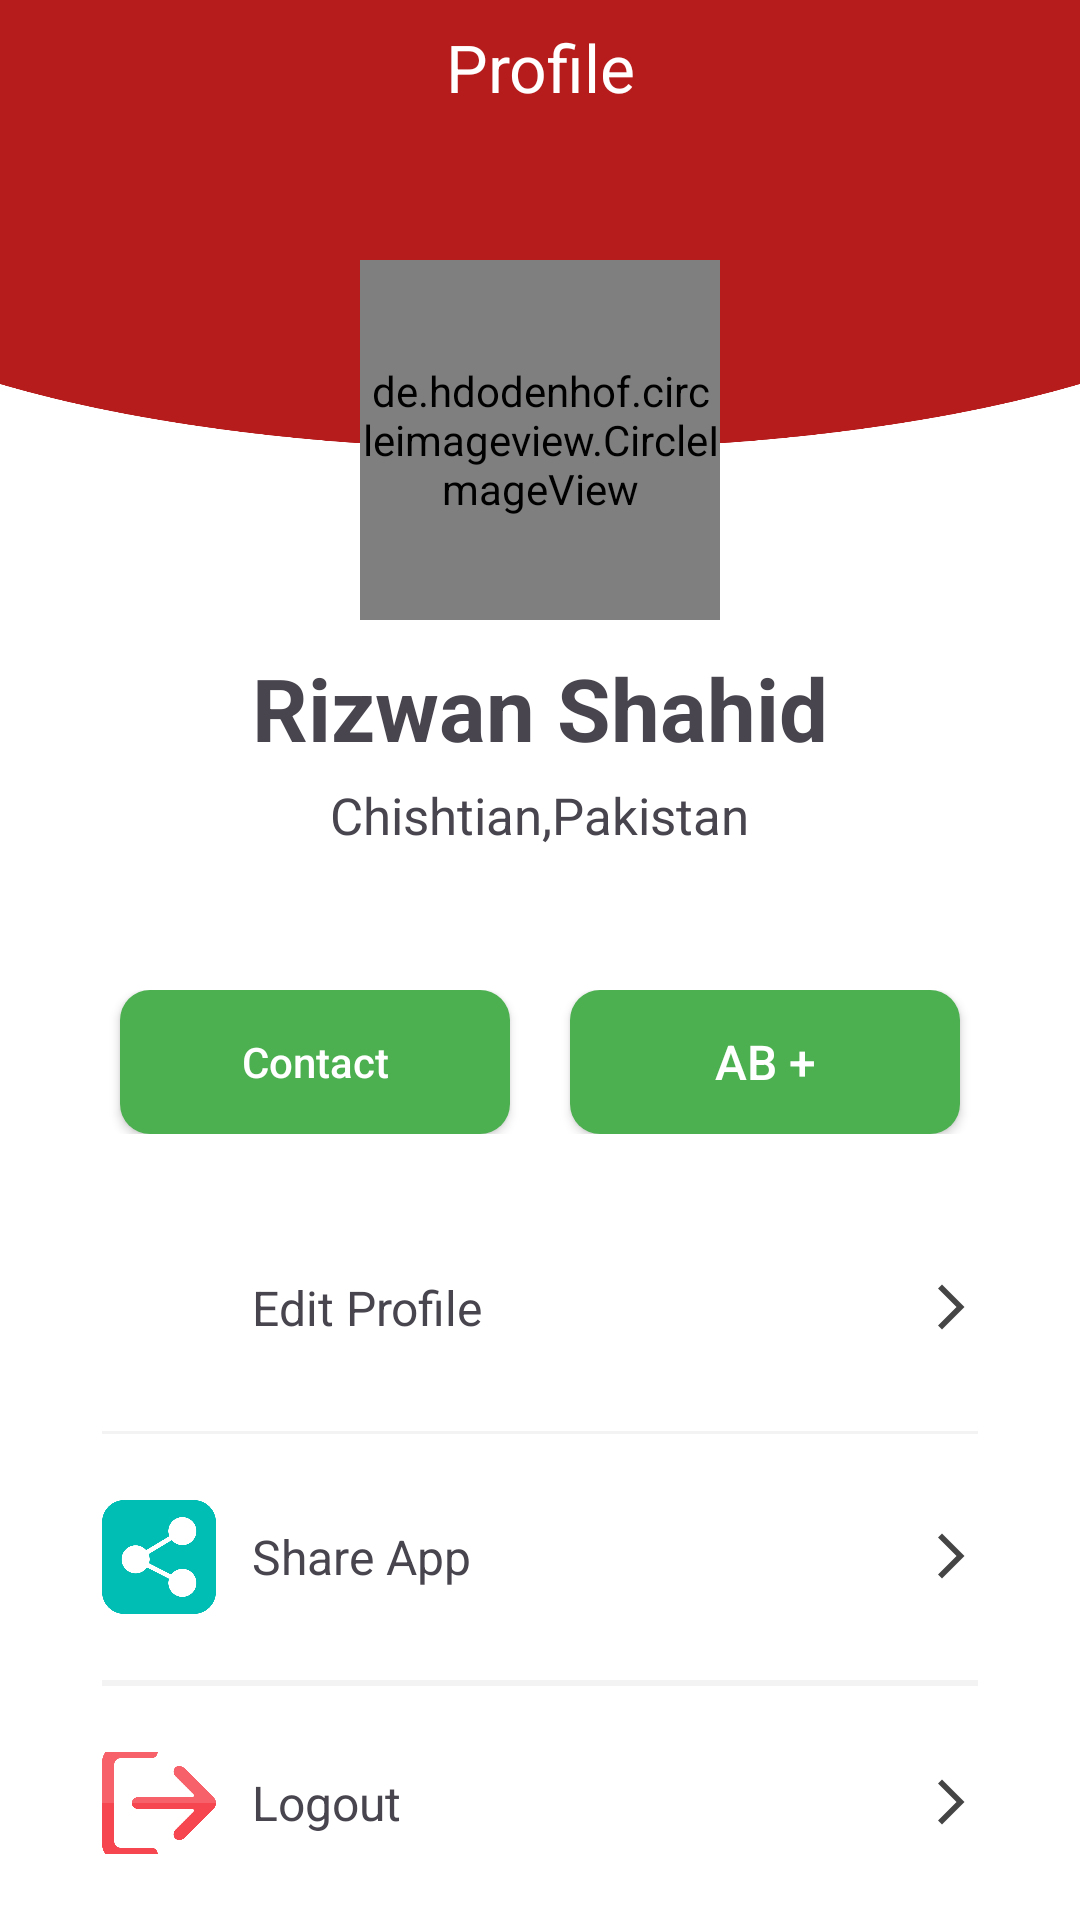

Named icons in this screenshot (1080px×1920px) and their centers, (x=x, y=y):
setting share: (x=159, y=1557)
